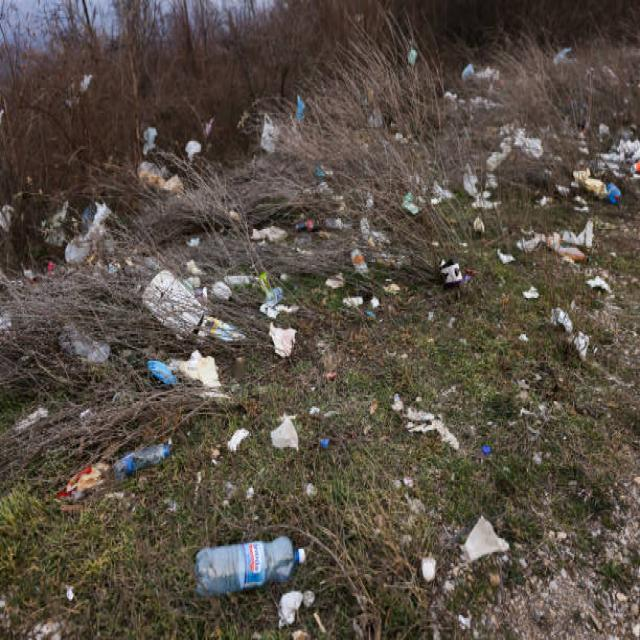plastic: (195, 536, 294, 594)
